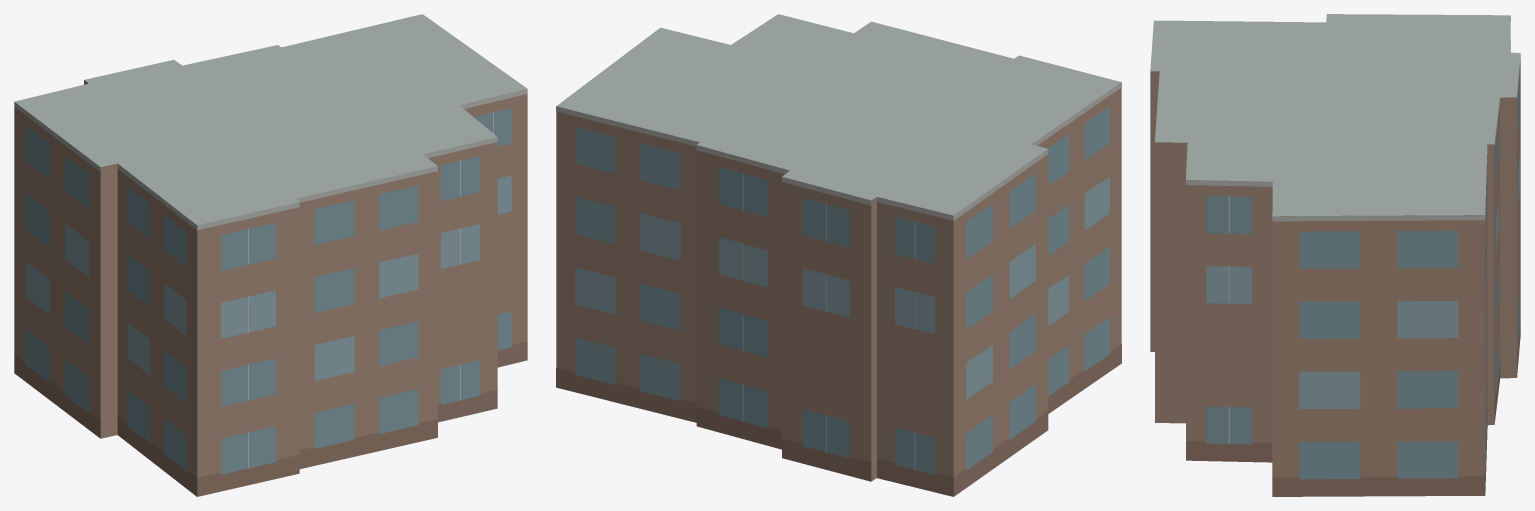
Rendered from survey-upis-32908892.glb.
3 views of the same model, side by side, from view 1: azimuth 30°, elevation 25°; view 2: azimuth 150°, elevation 25°; view 3: azimuth 270°, elevation 25° (orthographic). The views are drawn at different scales.
Parts seen in each view (by area): view 1: survey-upis-32908892.tmp; view 2: survey-upis-32908892.tmp; view 3: survey-upis-32908892.tmp.
Part boxes in pixels (left/top/right/bottom): survey-upis-32908892.tmp: left=14, top=14, right=527, bottom=496; survey-upis-32908892.tmp: left=556, top=14, right=1121, bottom=496; survey-upis-32908892.tmp: left=1150, top=14, right=1520, bottom=496.
Bounding box in the file's own units: 20.55 × 13.3 × 15.92.
